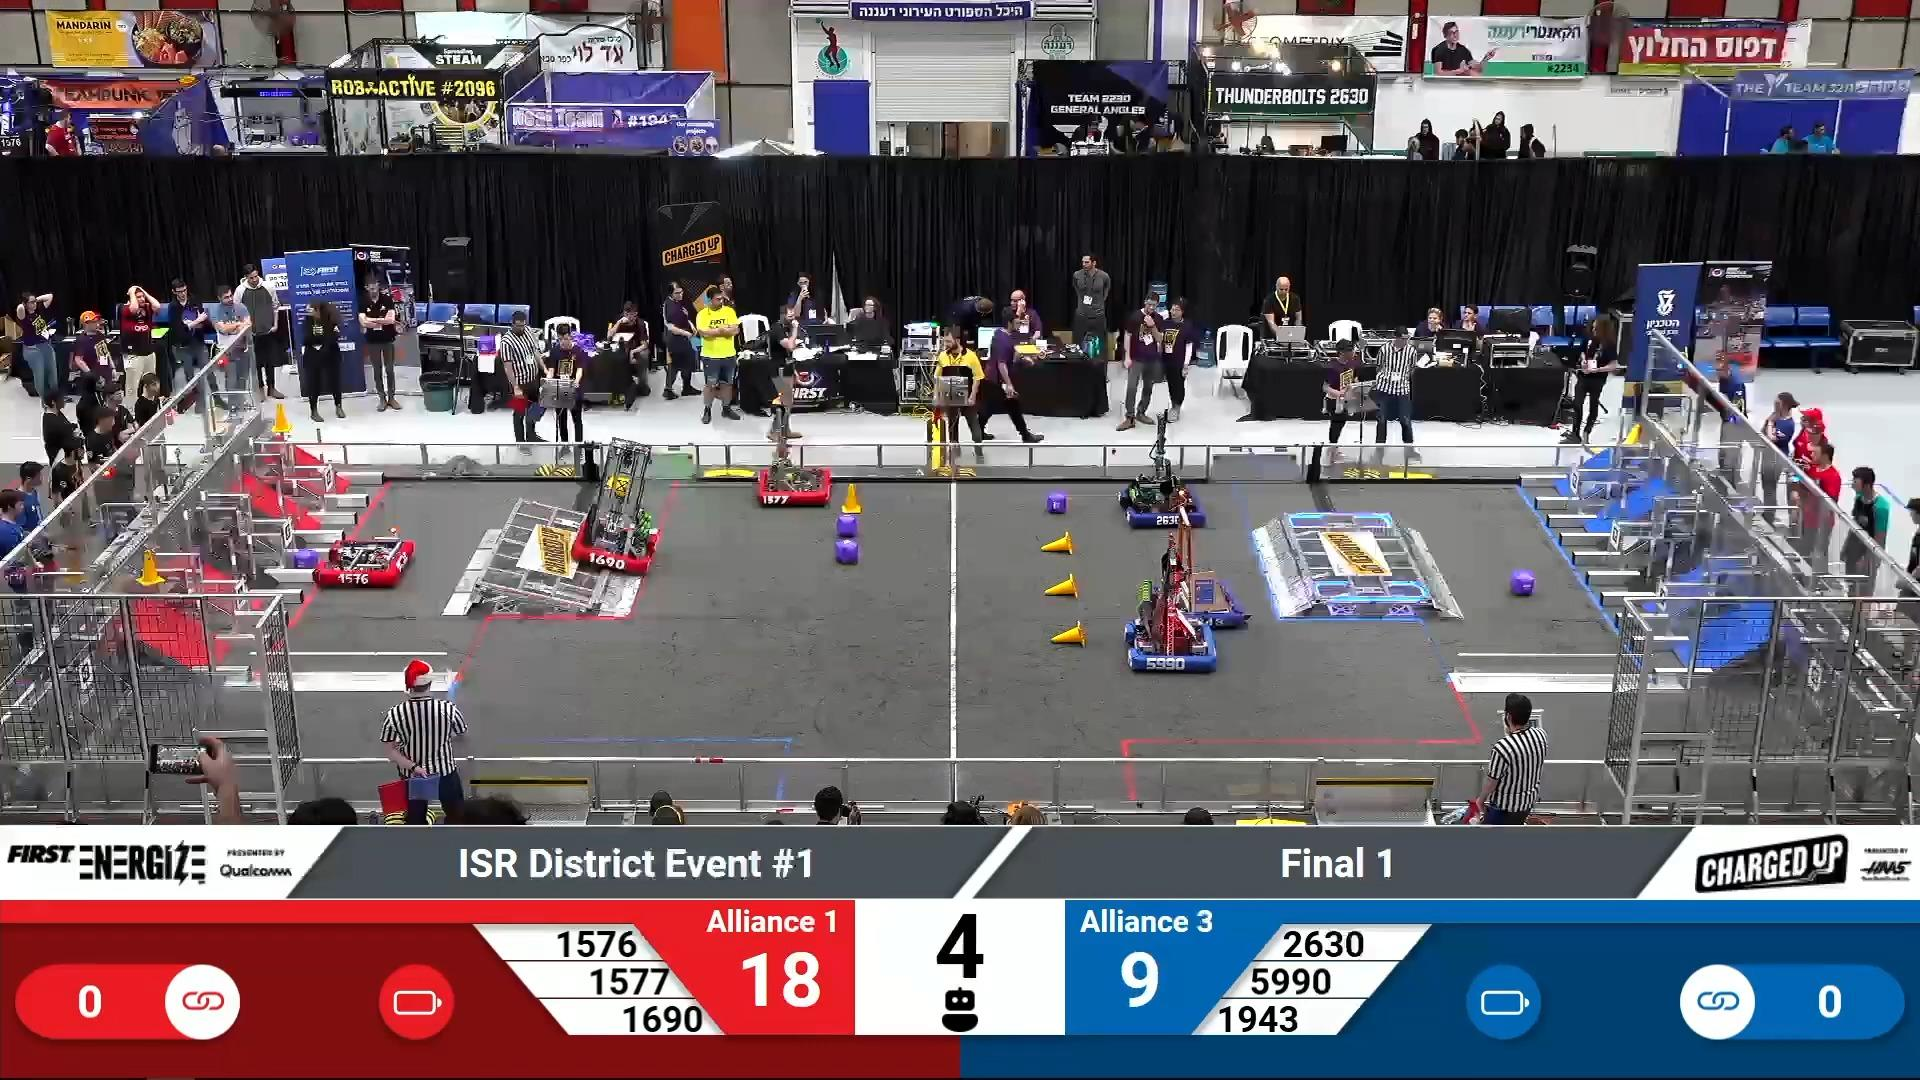robot: (1142, 488, 1250, 629), (1125, 531, 1220, 674), (568, 438, 663, 574), (1116, 405, 1207, 527), (757, 414, 832, 506), (316, 530, 413, 585)
